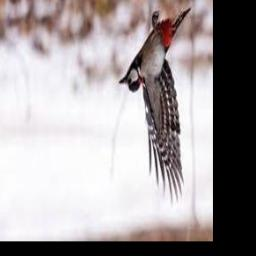Woodpecker: (119, 6, 191, 206)
